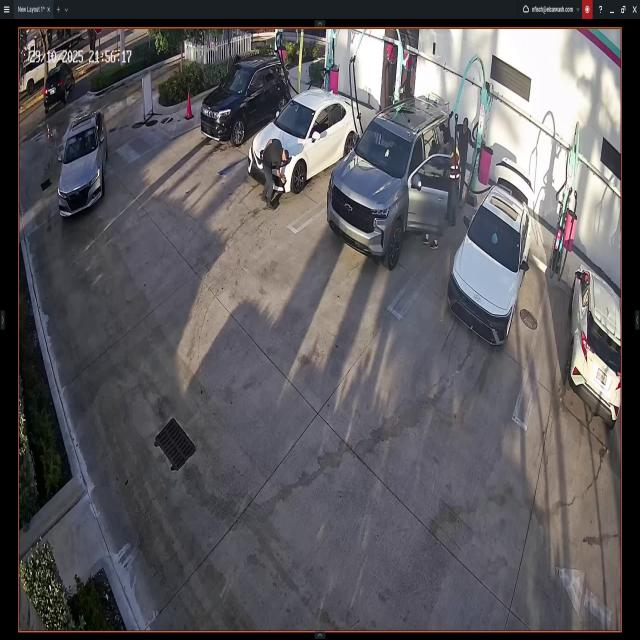Car: (324, 96, 451, 272), (444, 158, 534, 347), (248, 84, 363, 193), (572, 263, 620, 430), (201, 61, 287, 133), (59, 118, 104, 218), (42, 63, 74, 106)
